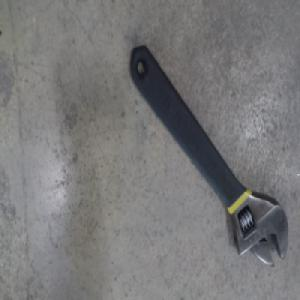AdjustableWrench: (128, 42, 289, 266)
